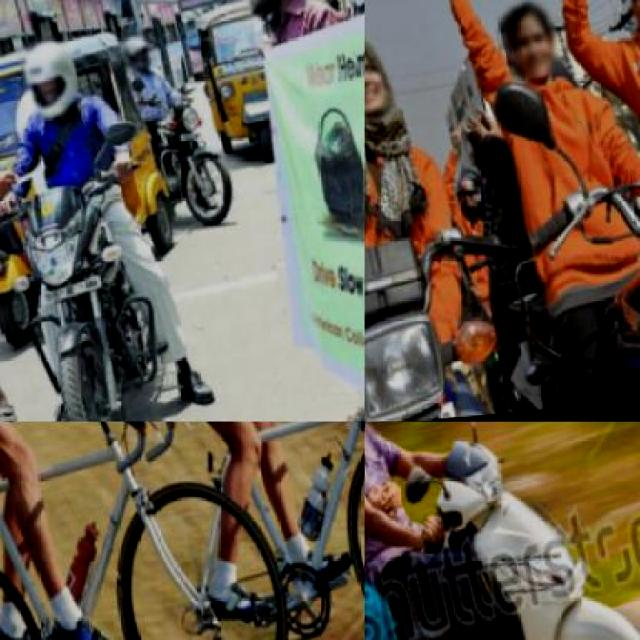With Helmet: (11, 34, 84, 131), (214, 0, 317, 40), (115, 28, 157, 86)
Without Helmet: (491, 0, 563, 91), (364, 20, 402, 138)
